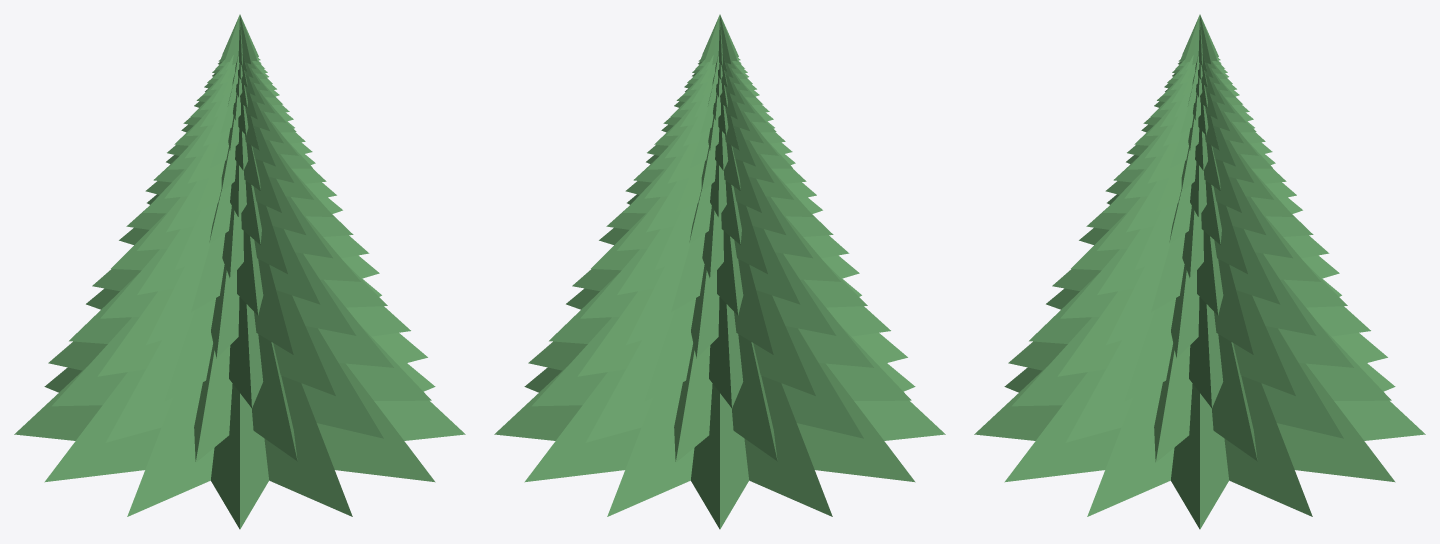
The picture shows the model from 3 angles, left to right: view 1: azimuth 30°, elevation 25°; view 2: azimuth 150°, elevation 25°; view 3: azimuth 270°, elevation 25°; orthographic projection.
Parts seen in each view (by area): view 1: Mesh_Mesh_head_geo.001_lambert2SG.001; view 2: Mesh_Mesh_head_geo.001_lambert2SG.001; view 3: Mesh_Mesh_head_geo.001_lambert2SG.001.
Boxes of the visible parts, <box> form: Mesh_Mesh_head_geo.001_lambert2SG.001: <box>14,14,465,529</box>; Mesh_Mesh_head_geo.001_lambert2SG.001: <box>494,14,945,529</box>; Mesh_Mesh_head_geo.001_lambert2SG.001: <box>974,14,1425,529</box>.
Size of the model in its own units: 0.037 by 0.041 by 0.037.
